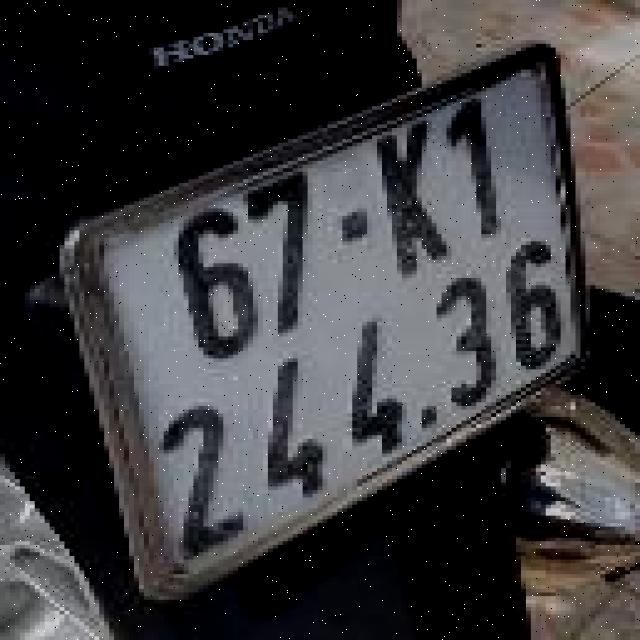1: (446, 93, 521, 240)
2: (152, 408, 250, 558)
3: (427, 280, 501, 415)
4: (332, 316, 412, 466), (253, 353, 332, 503)
6: (159, 194, 268, 377), (492, 230, 583, 389)
7: (248, 170, 318, 342)
K: (362, 124, 452, 282)
